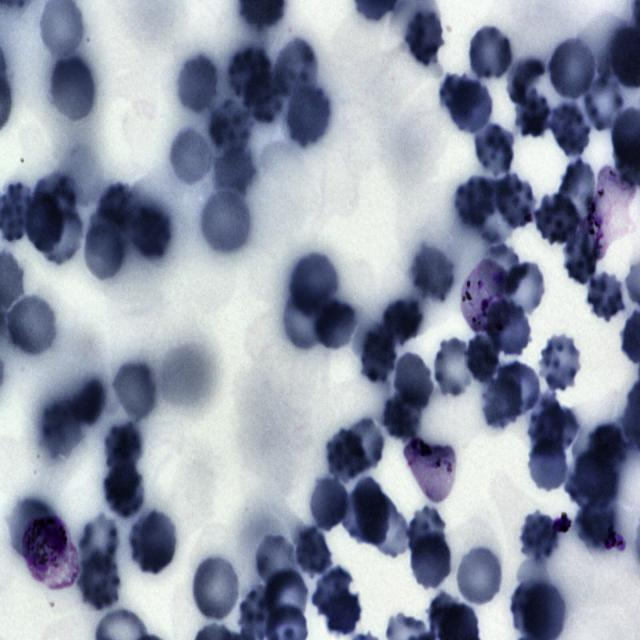gametocyte: (22, 515, 76, 592)
red blood cell: (200, 187, 252, 257), (190, 553, 242, 622), (356, 491, 410, 556), (48, 55, 98, 124), (285, 79, 333, 150), (6, 293, 57, 359), (129, 509, 178, 576), (347, 476, 393, 547), (454, 544, 504, 608), (566, 451, 620, 510), (288, 252, 336, 318), (282, 286, 330, 352), (548, 37, 597, 101), (498, 262, 549, 323), (111, 358, 157, 424), (167, 125, 214, 189), (408, 528, 454, 592), (311, 294, 360, 354), (76, 550, 122, 612), (175, 54, 221, 116), (411, 242, 457, 304), (101, 458, 147, 519), (433, 336, 475, 402), (467, 24, 514, 82), (538, 333, 584, 392), (404, 5, 446, 68), (37, 208, 84, 264), (274, 38, 318, 97), (392, 350, 434, 411), (256, 534, 300, 592), (39, 401, 83, 458), (307, 474, 350, 532), (534, 192, 580, 246), (527, 434, 569, 493), (550, 99, 592, 158), (488, 300, 532, 356), (263, 569, 307, 625), (560, 159, 598, 223), (583, 74, 624, 132), (498, 362, 542, 416), (326, 428, 370, 482), (210, 97, 252, 153), (78, 514, 120, 570), (533, 406, 580, 456), (229, 47, 273, 100), (528, 394, 565, 456), (449, 80, 493, 132), (496, 173, 536, 230), (482, 375, 524, 429), (212, 146, 258, 195), (455, 175, 499, 226), (83, 226, 123, 282), (25, 193, 64, 250), (518, 508, 559, 562), (345, 415, 385, 470), (34, 172, 74, 227), (245, 71, 285, 125), (406, 504, 446, 558), (130, 205, 170, 258), (312, 566, 353, 617), (438, 71, 482, 118), (470, 129, 513, 177), (360, 326, 395, 384), (583, 274, 626, 321), (382, 392, 422, 442), (105, 420, 142, 474), (298, 524, 335, 578), (563, 228, 597, 286), (574, 503, 617, 548), (382, 300, 423, 346), (516, 89, 554, 138), (98, 183, 136, 230), (587, 424, 629, 466), (322, 591, 362, 635), (468, 334, 500, 386)
trophozoite: (587, 168, 636, 260), (404, 436, 458, 506), (462, 260, 509, 336)
